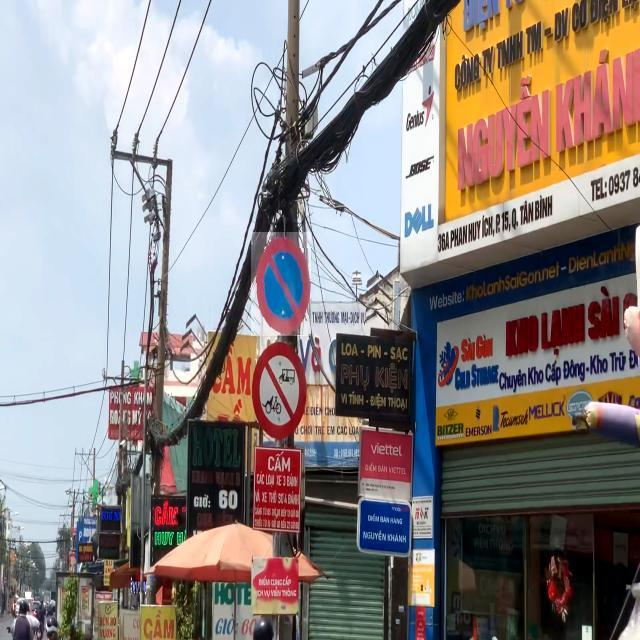P-131a: (251, 233, 311, 337)
